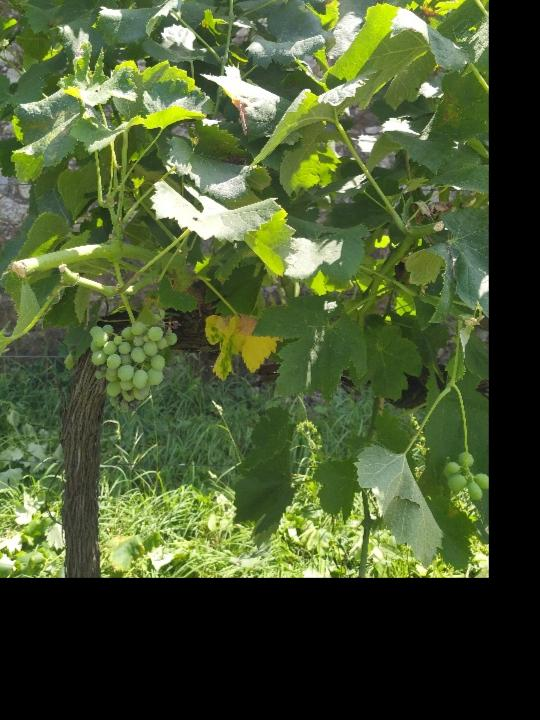grape: (88, 320, 180, 415)
